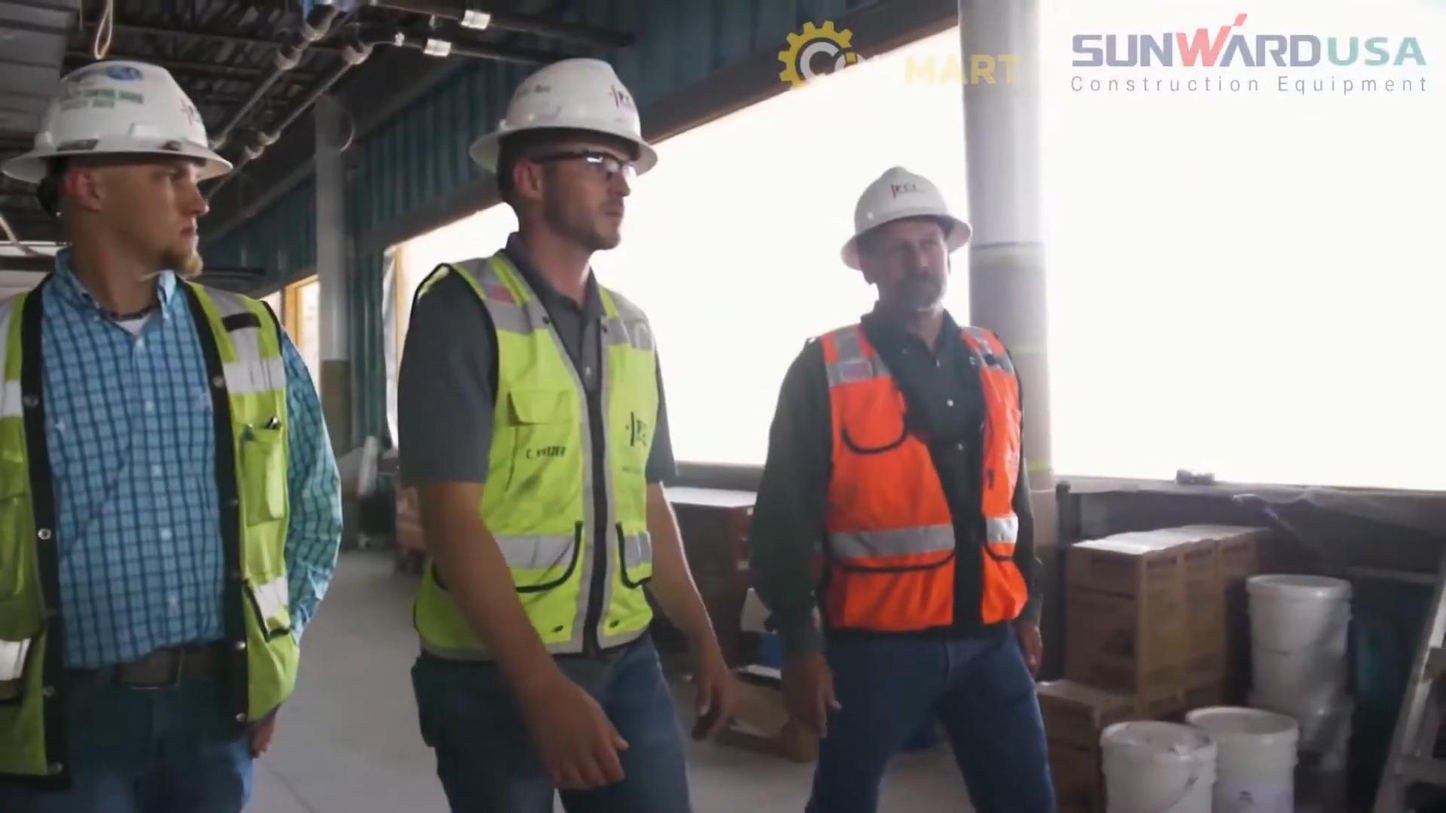Helmet: (36, 76, 238, 167), (494, 65, 658, 153), (840, 165, 973, 269)
Person: (8, 42, 364, 804), (402, 48, 723, 800), (748, 165, 1057, 811)
Safety Vest: (0, 326, 308, 650), (436, 263, 652, 639), (802, 331, 1037, 602)
bare-arms: (528, 695, 642, 792), (782, 647, 839, 725), (682, 664, 735, 744), (1009, 617, 1051, 688)
